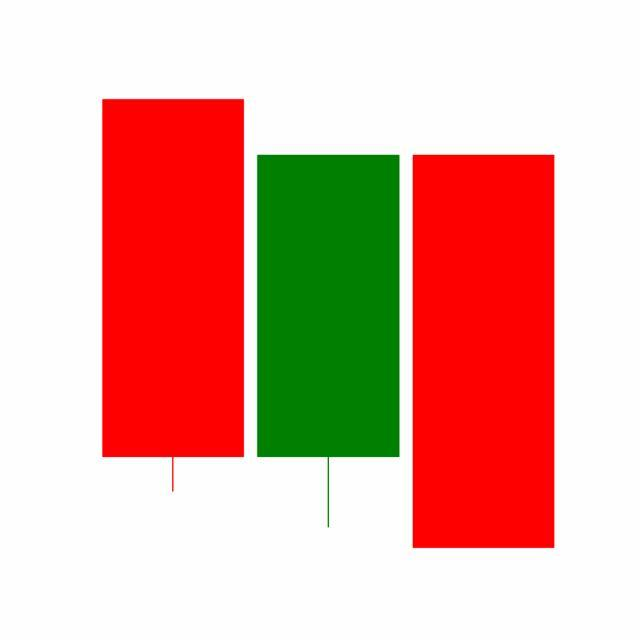Marubozu: (406, 151, 562, 552)
